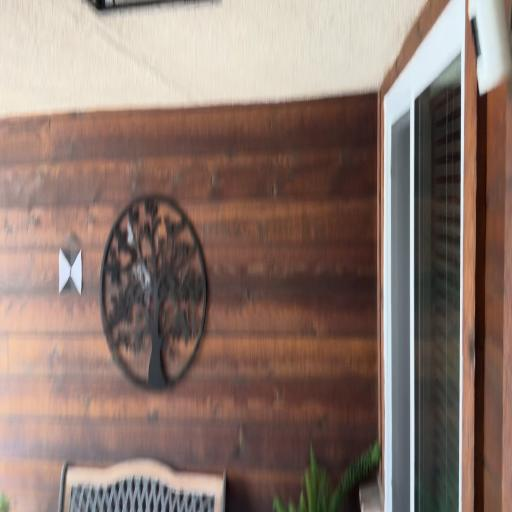target: (60, 249, 82, 293)
